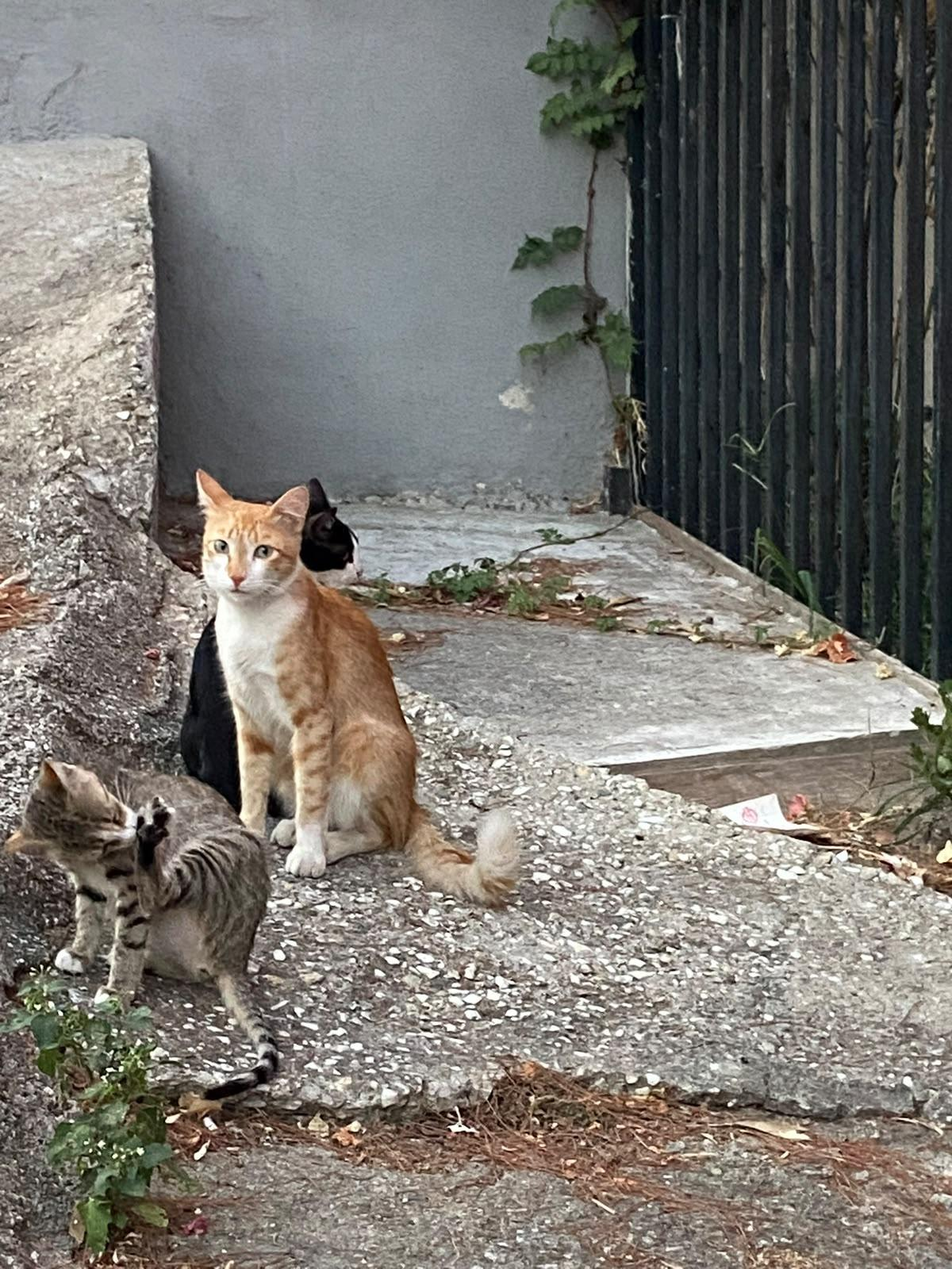macka: (192, 469, 525, 910), (7, 756, 280, 1097), (180, 477, 365, 818)
